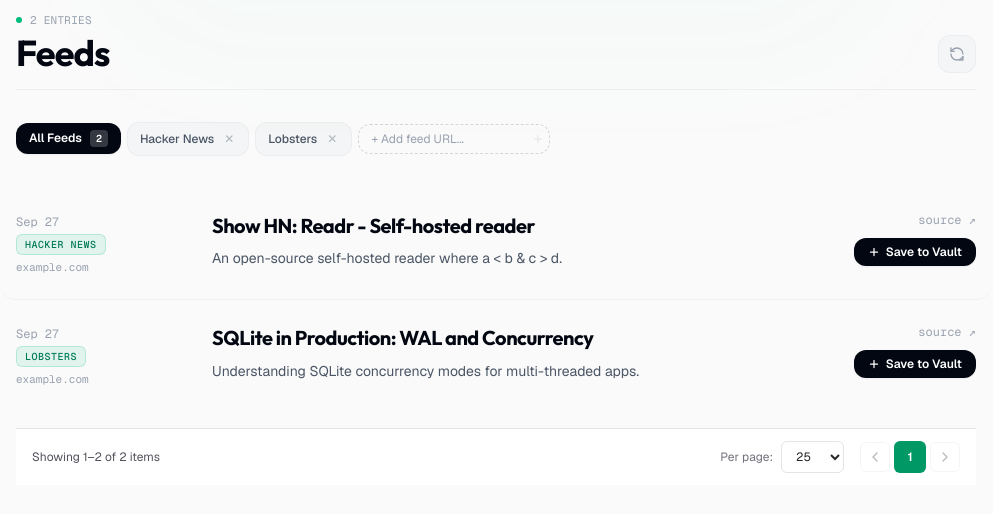
Test: FeedsView.vue › displays error when addFeed rejects
In the field with placeholder "+ Add feed URL...": [454, 138] box [358,124,550,154], type "https://invalid-site.com/not-a-feed"
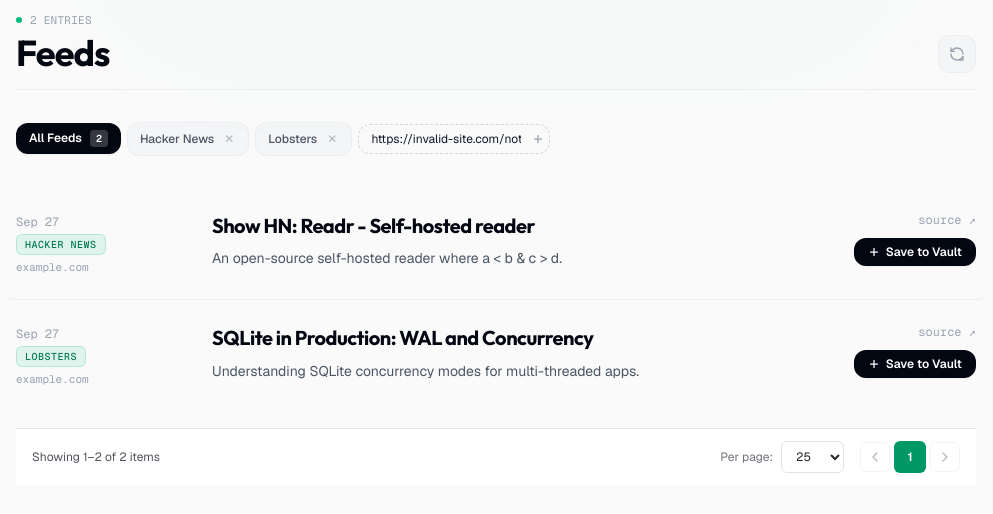
Submit the form, box [358,124,550,154]
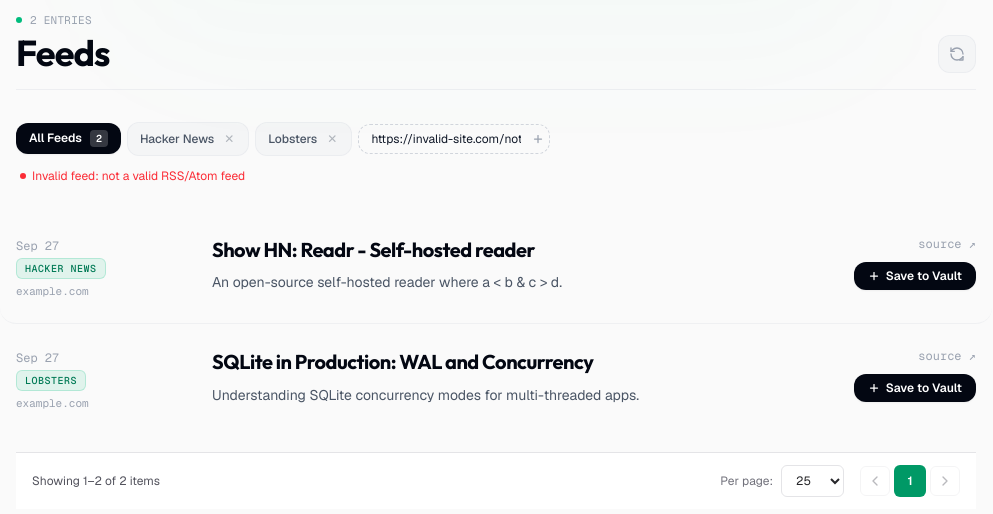
Result: the text "Invalid feed: not a valid RSS/Atom feed" is shown at [32,168,245,184]
